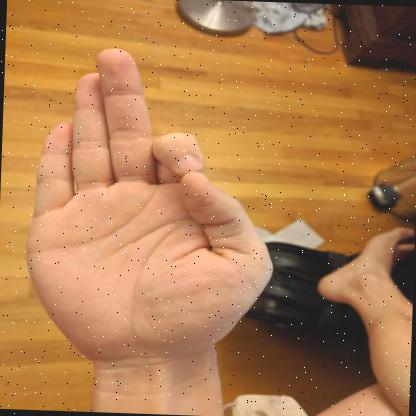F: (25, 48, 273, 372)
